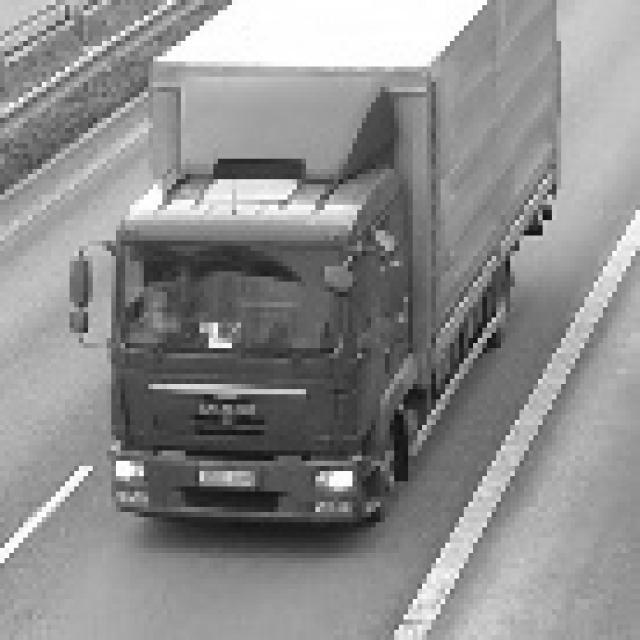truck: (65, 0, 561, 532)
